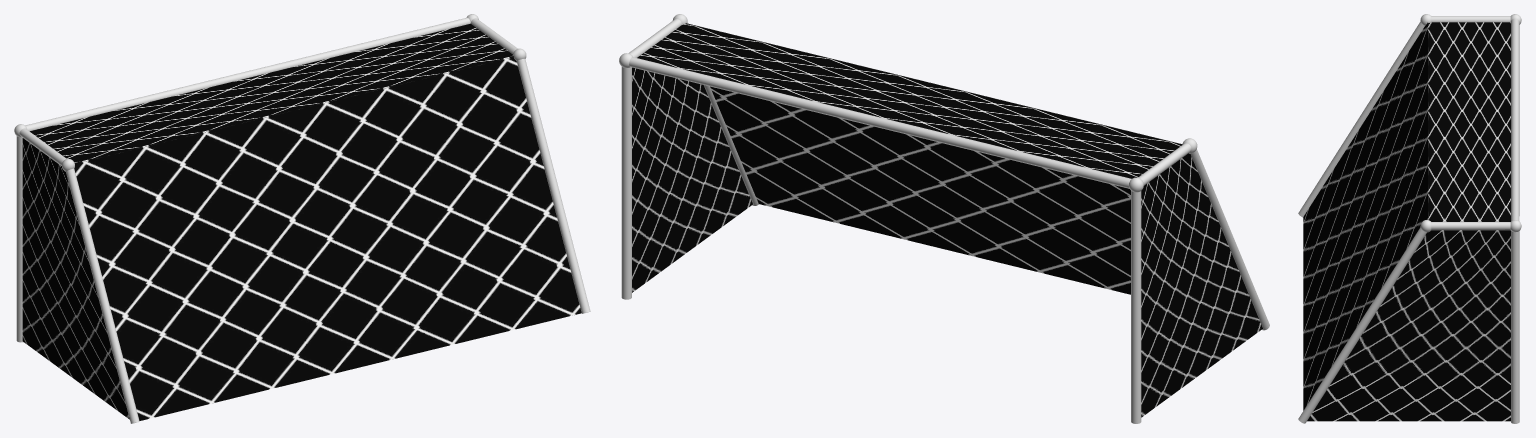
Rendered from soccergoal.fbx.
3 views of the same model, side by side, from view 1: azimuth 30°, elevation 25°; view 2: azimuth 150°, elevation 25°; view 3: azimuth 270°, elevation 25° (orthographic). The views are drawn at different scales.
Visible parts, largest first — view 1: polySurface9, polySurface6, polySurface8, polySurface3, polySurface13, polySurface12, polySurface10; view 2: polySurface9, polySurface6, polySurface8, polySurface7, polySurface3, polySurface1, polySurface10, polySurface13, polySurface12, polySurface11; view 3: polySurface7, polySurface9, polySurface6, polySurface12, polySurface3, polySurface1, polySurface13, polySurface5, polySurface11.
Boxes of the visible parts, x1,y1,x2,y2 form: polySurface9: (74,56,581,420); polySurface6: (30,23,512,163); polySurface8: (22,138,129,419); polySurface3: (25,17,470,131); polySurface13: (66,168,139,423); polySurface12: (516,58,590,313); polySurface10: (16,136,23,342); polySurface9: (685,23,1182,294); polySurface6: (637,24,1181,178); polySurface8: (1141,153,1262,417); polySurface7: (632,67,752,292); polySurface3: (629,57,1131,188); polySurface1: (621,67,631,299); polySurface10: (1131,191,1141,423); polySurface13: (1190,149,1269,330); polySurface12: (703,85,758,205); polySurface11: (1138,143,1191,185); polySurface7: (1307,230,1510,421); polySurface9: (1303,22,1428,410); polySurface6: (1428,22,1510,221); polySurface12: (1298,227,1426,423); polySurface3: (1511,18,1519,221); polySurface1: (1511,231,1519,423); polySurface13: (1298,21,1424,217); polySurface5: (1431,222,1510,230); polySurface11: (1431,16,1510,22).
Size of the model in its own units: 18.47 by 8.26 by 8.25.
Materials: 2 (1 with a texture image).
